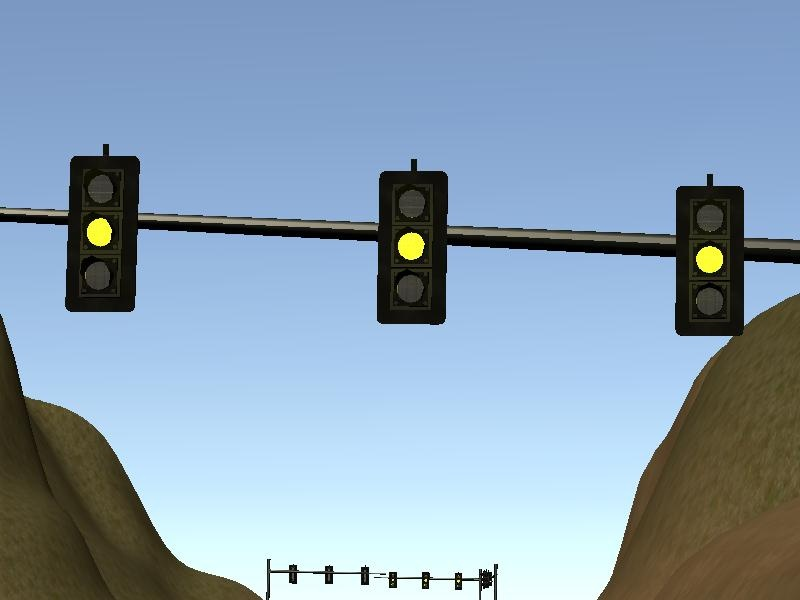YELLOW: (64, 143, 140, 314), (373, 155, 449, 326), (670, 169, 746, 340)
